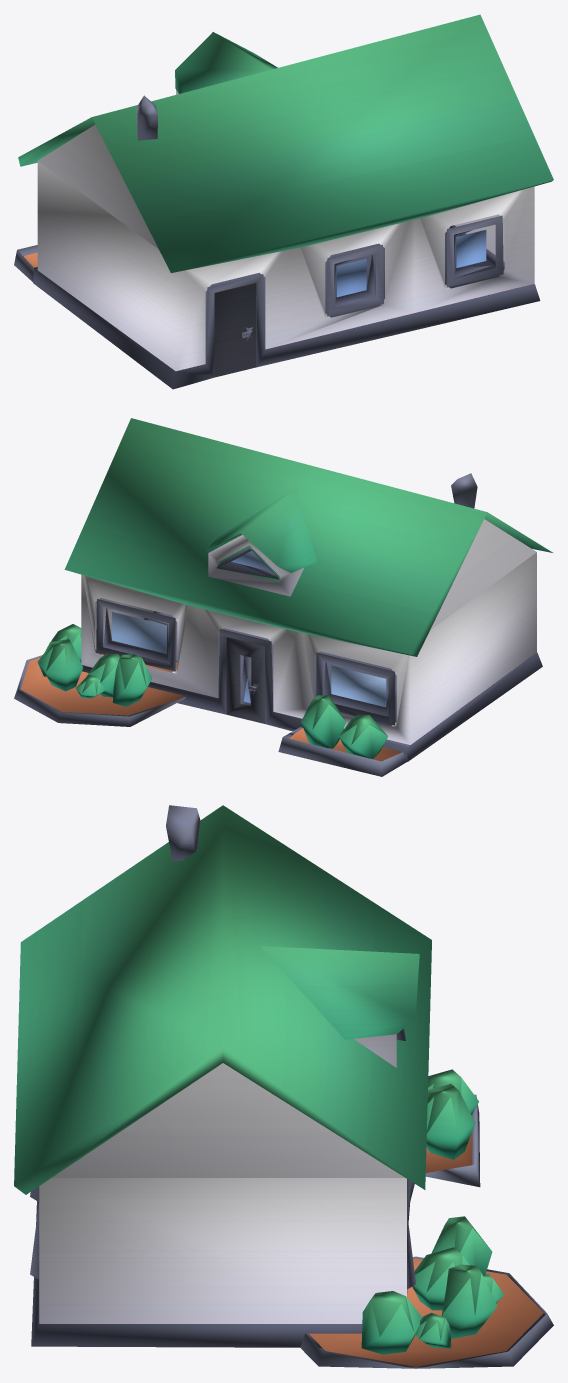
The model's file is house-g-medium.glb.
The picture shows the model from 3 angles, top to bottom: view 1: azimuth 30°, elevation 25°; view 2: azimuth 150°, elevation 25°; view 3: azimuth 270°, elevation 25°; orthographic projection. The views are drawn at different scales.
Parts seen in each view (by area): view 1: building-type-g baked; view 2: building-type-g baked; view 3: building-type-g baked.
Part boxes in pixels (left/top/right/bottom): building-type-g baked: left=14, top=14, right=553, bottom=389; building-type-g baked: left=14, top=418, right=552, bottom=776; building-type-g baked: left=14, top=805, right=553, bottom=1368.
Size of the model in its own units: 13.06 by 7 by 10.66.
1 material, 1 textured.
